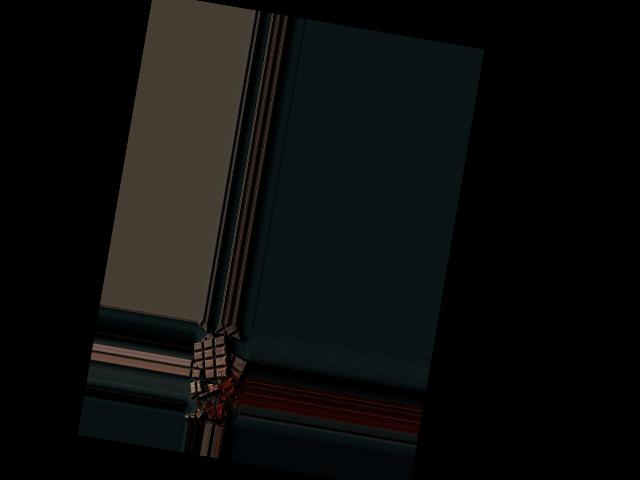chocolate: (188, 329, 235, 381)
